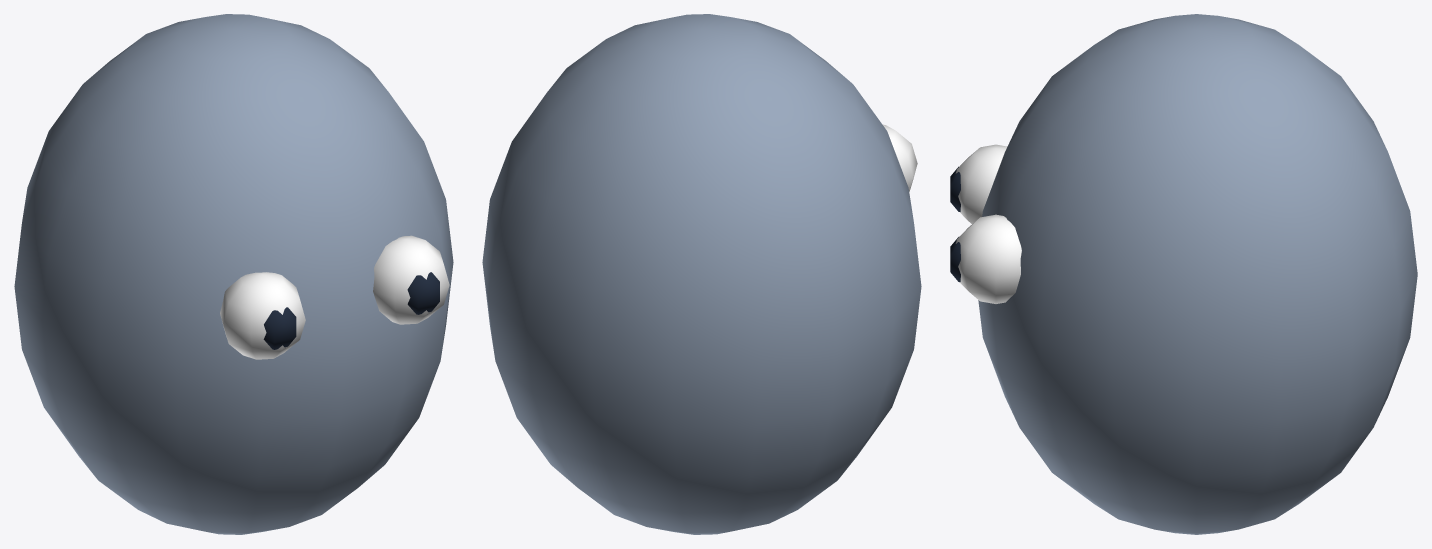
The model's file is creature-default.glb.
The picture shows the model from 3 angles, left to right: view 1: azimuth 30°, elevation 25°; view 2: azimuth 150°, elevation 25°; view 3: azimuth 270°, elevation 25°; orthographic projection.
Bounding box in the file's own units: 0.64 × 0.7808 × 0.6763.
